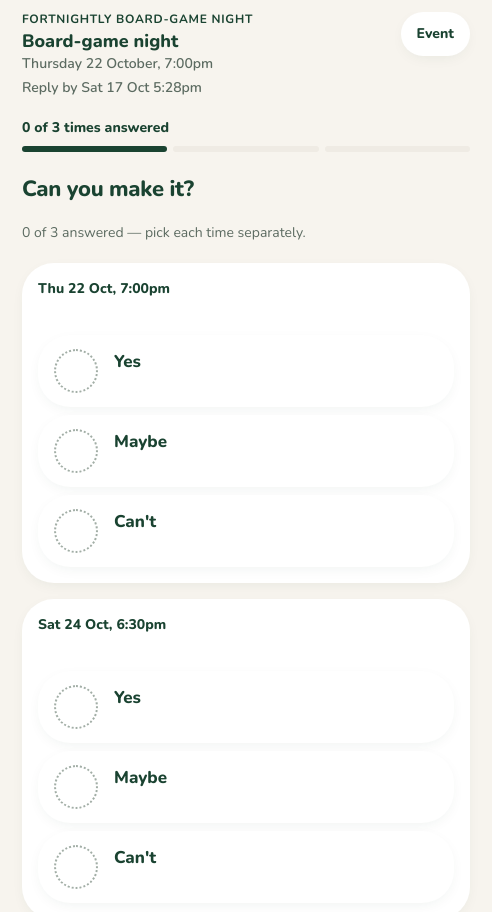
Scenario: EventParticipantRespondFlow multi-time attendance › switches to confirmed single-time view when the save returns confirmedCandidate
Click the button "Yes" below "Thu 22 Oct, 7:00pm": (76, 371) left=38, top=336, right=454, bottom=408
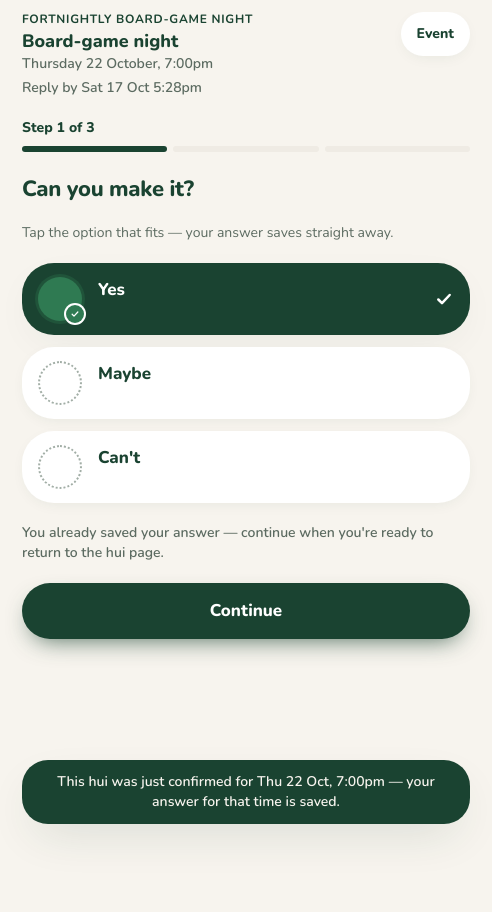
Now the text "Sat 24 Oct, 6:30pm" is gone
Now the button "Continue" is shown, box left=22, top=584, right=470, bottom=640
Now the number of buttons "Yes" is 1, box left=22, top=264, right=470, bottom=336
